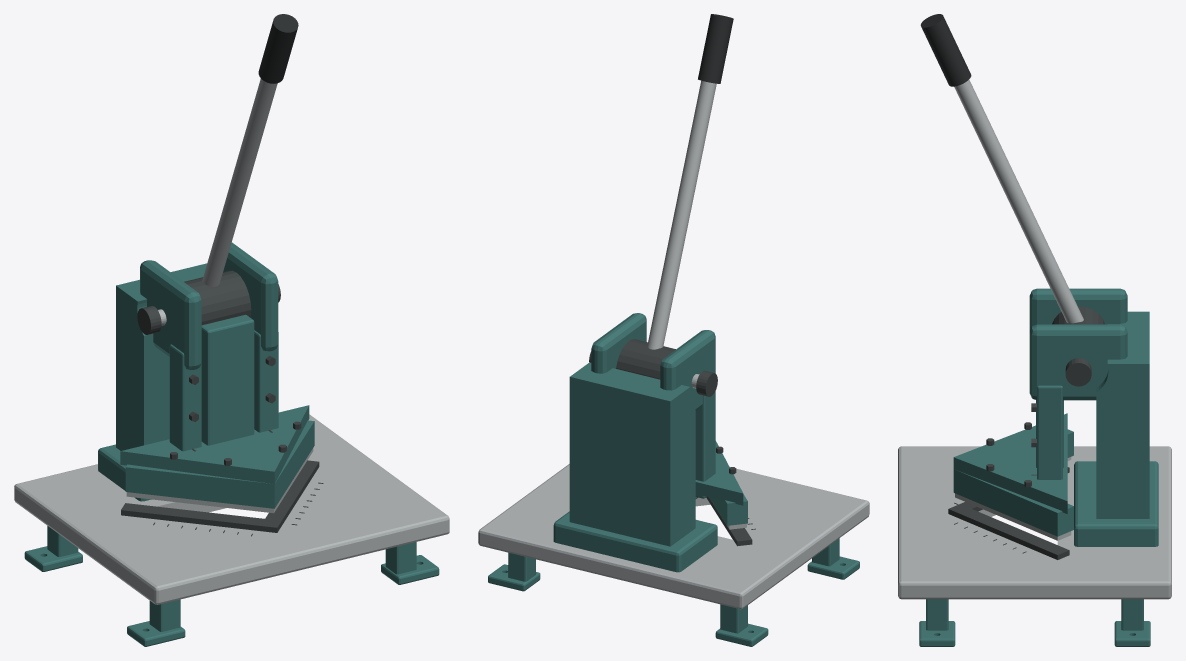
Rendered from A-NEW-20261026-CORNER-NOTCHER-001_LOD1_R6.glb.
3 renders of one model, left to right at view 1: azimuth 30°, elevation 25°; view 2: azimuth 150°, elevation 25°; view 3: azimuth 270°, elevation 25°, orthographic. The views are drawn at different scales.
Visible parts, largest first — view 1: worktable with actual triangular aperture, rear casting upright, vertical guided head, triangular guided head support, upper V carrier, cam support ear -0.065, rising operating lever, fixed perpendicular lower edges, cam support ear 0.065, front guide cheek -0.065, cam eccentric visible drum, front guide cheek 0.065 (+8 smaller); view 2: worktable with actual triangular aperture, rear casting upright, rising operating lever, rear casting mount, cam support ear -0.065, cam support ear 0.065, front guide cheek -0.065, rounded lever grip, cam eccentric visible drum, triangular guided head support, mount foot -0.2 0.15, mount foot -0.2 -0.15 (+4 smaller); view 3: worktable with actual triangular aperture, rear casting upright, cam support ear 0.065, triangular guided head support, rising operating lever, rear casting mount, upper V carrier, cam support ear -0.065, front guide cheek 0.065, fixed perpendicular lower edges, rounded lever grip, mount foot 0.2 -0.15 (+6 smaller).
Boxes of the visible parts, <box> form: worktable with actual triangular aperture: <box>14,414,449,604</box>; rear casting upright: <box>116,263,206,450</box>; vertical guided head: <box>201,314,254,445</box>; triangular guided head support: <box>120,405,309,483</box>; upper V carrier: <box>125,420,314,508</box>; cam support ear -0.065: <box>140,260,201,369</box>; rising operating lever: <box>202,78,277,286</box>; fixed perpendicular lower edges: <box>121,460,319,532</box>; cam support ear 0.065: <box>223,242,278,351</box>; front guide cheek -0.065: <box>169,344,201,451</box>; cam eccentric visible drum: <box>184,270,251,325</box>; front guide cheek 0.065: <box>254,330,278,432</box>; worktable with actual triangular aperture: <box>478,464,869,609</box>; rear casting upright: <box>569,362,695,546</box>; rising operating lever: <box>647,80,716,349</box>; rear casting mount: <box>553,511,717,572</box>; cam support ear -0.065: <box>660,330,715,411</box>; cam support ear 0.065: <box>591,313,646,373</box>; front guide cheek -0.065: <box>695,391,715,498</box>; rounded lever grip: <box>698,14,733,83</box>; cam eccentric visible drum: <box>616,339,675,379</box>; triangular guided head support: <box>695,441,743,505</box>; mount foot -0.2 0.15: <box>715,623,768,646</box>; mount foot -0.2 -0.15: <box>807,556,859,579</box>; worktable with actual triangular aperture: <box>898,446,1171,599</box>; rear casting upright: <box>1096,311,1149,518</box>; cam support ear 0.065: <box>1029,324,1127,400</box>; triangular guided head support: <box>953,413,1067,513</box>; rising operating lever: <box>954,79,1083,323</box>; rear casting mount: <box>1074,461,1158,546</box>; upper V carrier: <box>953,429,1073,536</box>; cam support ear -0.065: <box>1029,288,1127,330</box>; front guide cheek 0.065: <box>1037,385,1062,479</box>; fixed perpendicular lower edges: <box>948,467,1069,559</box>; rounded lever grip: <box>920,14,971,86</box>; mount foot 0.2 -0.15: <box>919,621,955,646</box>.
Bounding box in the file's own units: 0.5 × 0.9525 × 0.42.
